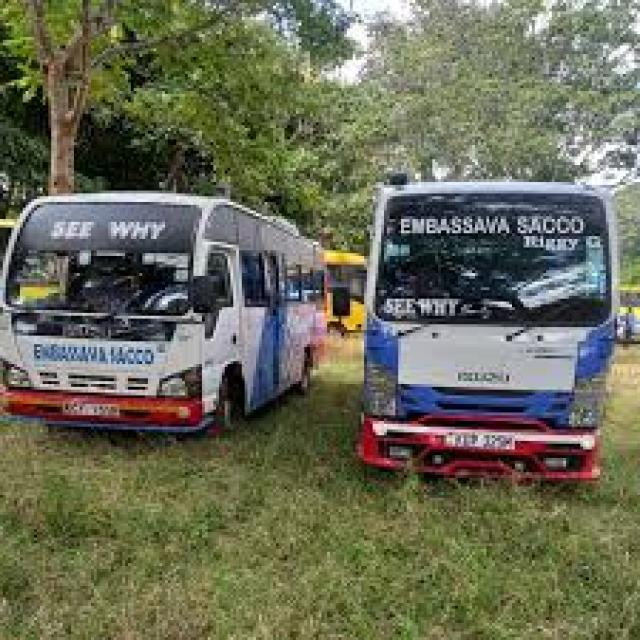bus: (334, 50, 640, 507), (0, 65, 330, 474)
